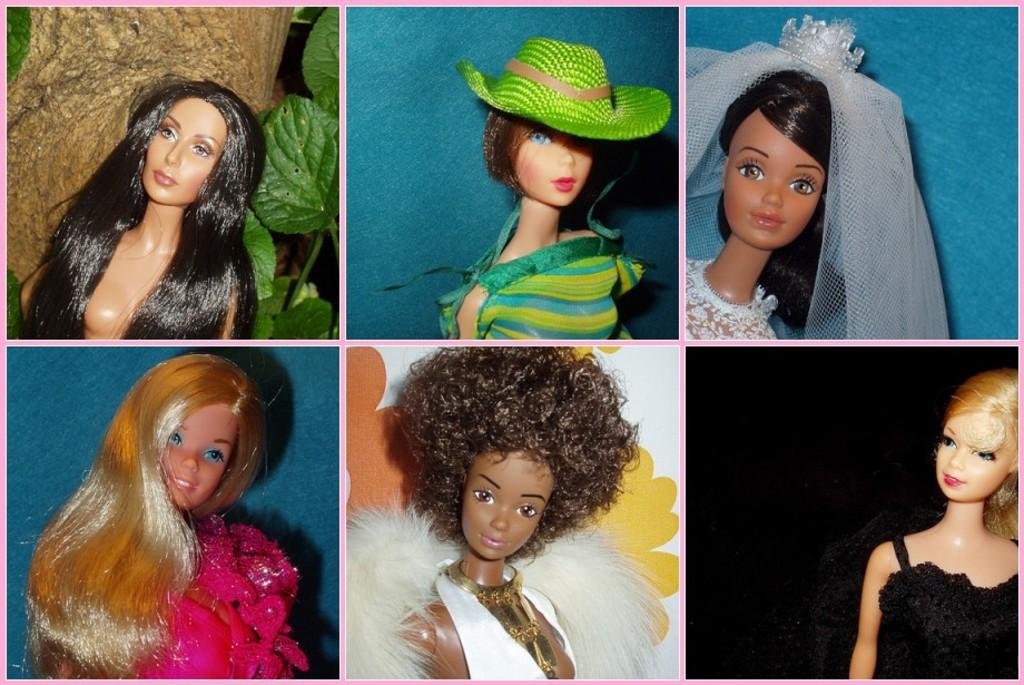Hat: (448, 33, 677, 148)
